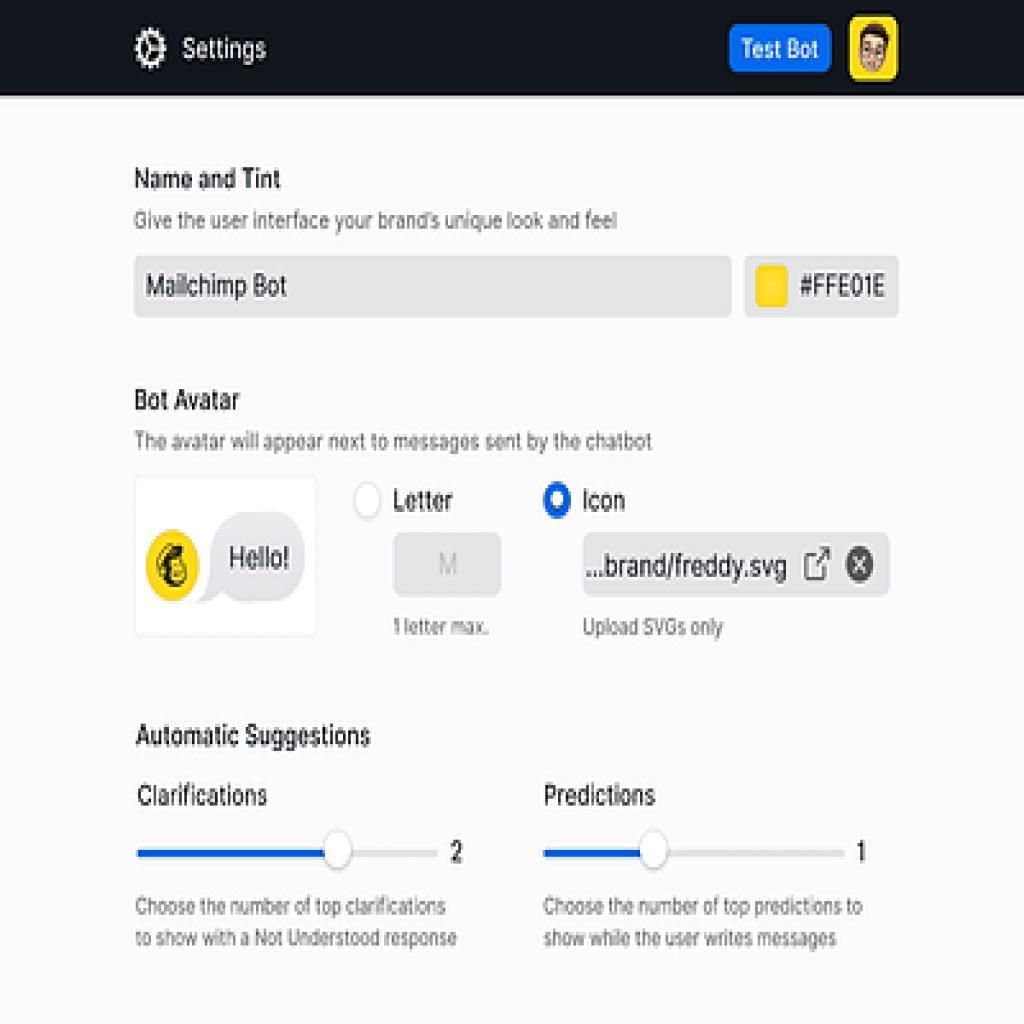button: (748, 255, 899, 319), (732, 24, 833, 72)
input: (135, 255, 731, 320)
label: (135, 721, 377, 756), (132, 780, 277, 817), (541, 775, 669, 816), (392, 487, 458, 519), (125, 387, 206, 411), (580, 485, 630, 518)
radio: (542, 482, 575, 522), (355, 481, 384, 525)
slider: (138, 831, 443, 871), (542, 839, 846, 871)
